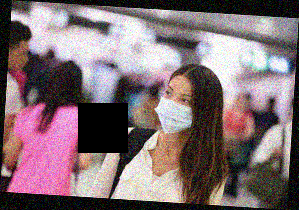with_mask: (152, 83, 195, 134)
